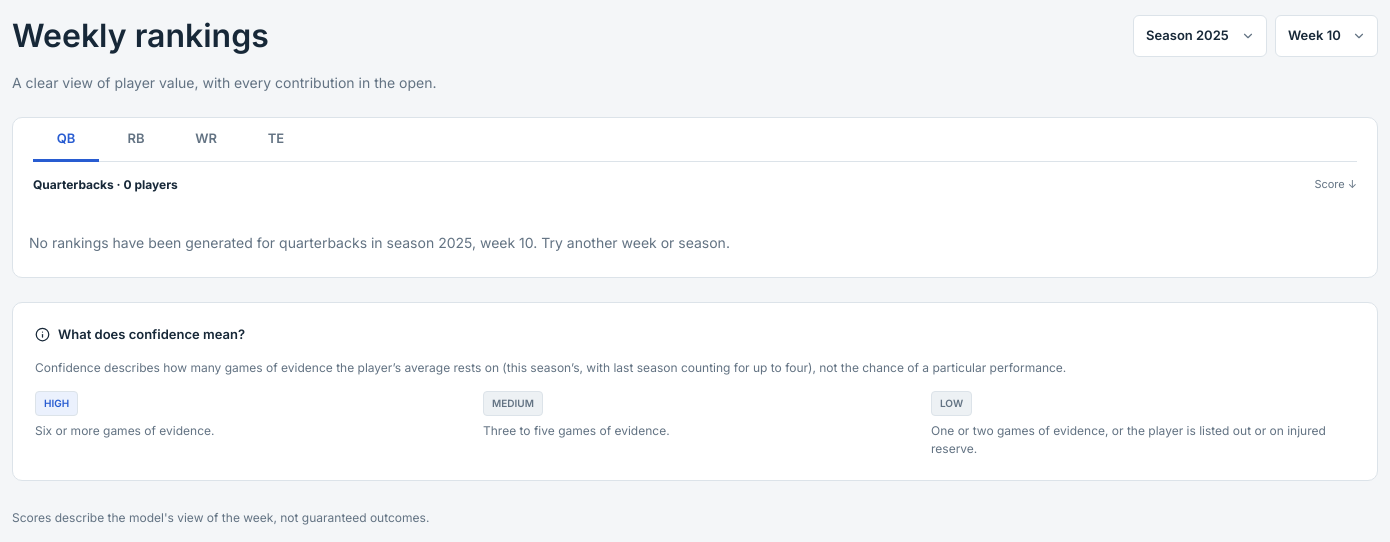
Scenario: RankingsPage › asks for the position that is picked
Expected: the text "No rankings have been generated" is shown, left=29, top=234, right=279, bottom=251
Click the tab "WR". click: (206, 140)
box: left=173, top=118, right=239, bottom=162
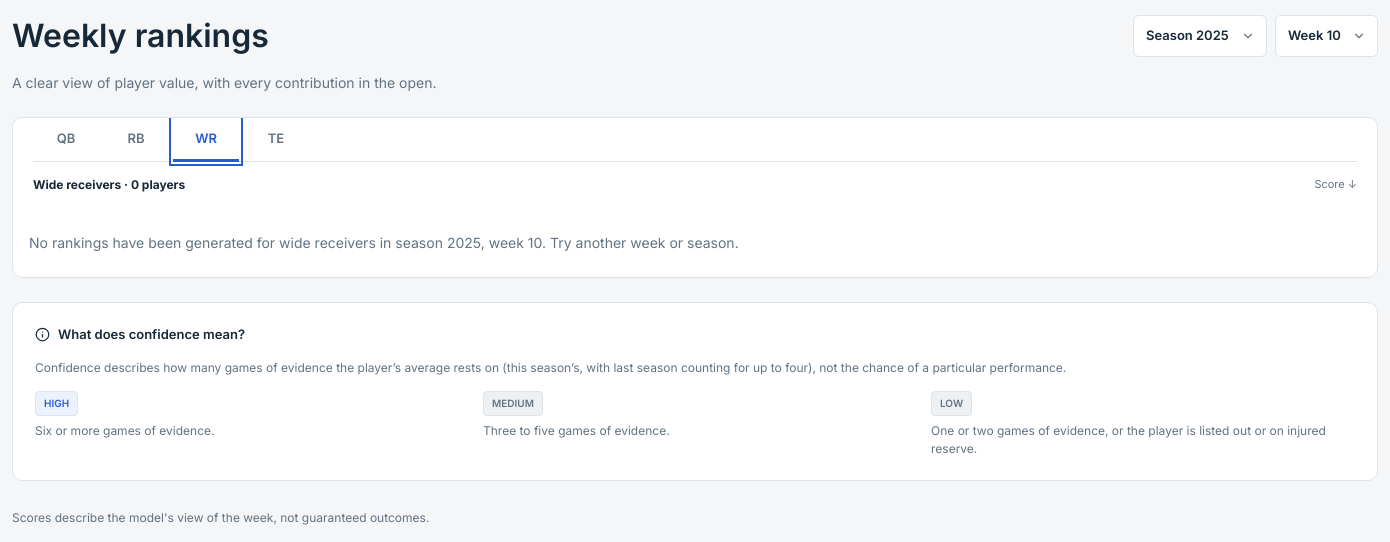
Expected: the text "No rankings have been generated for wide receivers" is shown, left=29, top=234, right=739, bottom=251
